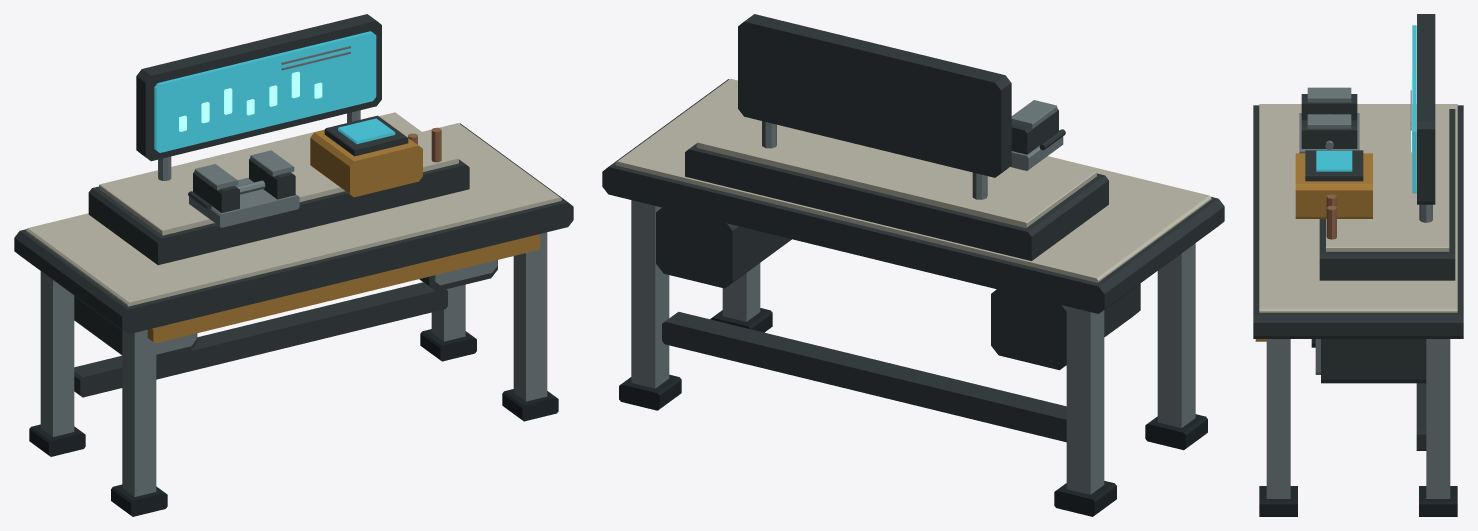
File: engineering_workstation.glb
3 renders of one model, left to right at view 1: azimuth 30°, elevation 25°; view 2: azimuth 150°, elevation 25°; view 3: azimuth 270°, elevation 25°, orthographic. The views are drawn at different scales.
Visible parts, largest first — view 1: engineering_workstation; view 2: engineering_workstation; view 3: engineering_workstation.
Part boxes in pixels (x1=…): engineering_workstation: x1=14, y1=14, x2=573, y2=516; engineering_workstation: x1=602, y1=14, x2=1224, y2=516; engineering_workstation: x1=1253, y1=14, x2=1463, y2=516.
Bounding box in the file's own units: 2.1 × 1.59 × 0.87.
